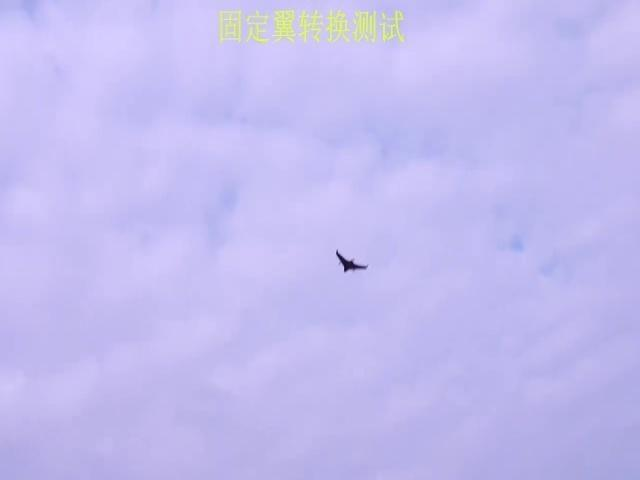Airplane: (335, 249, 368, 274)
